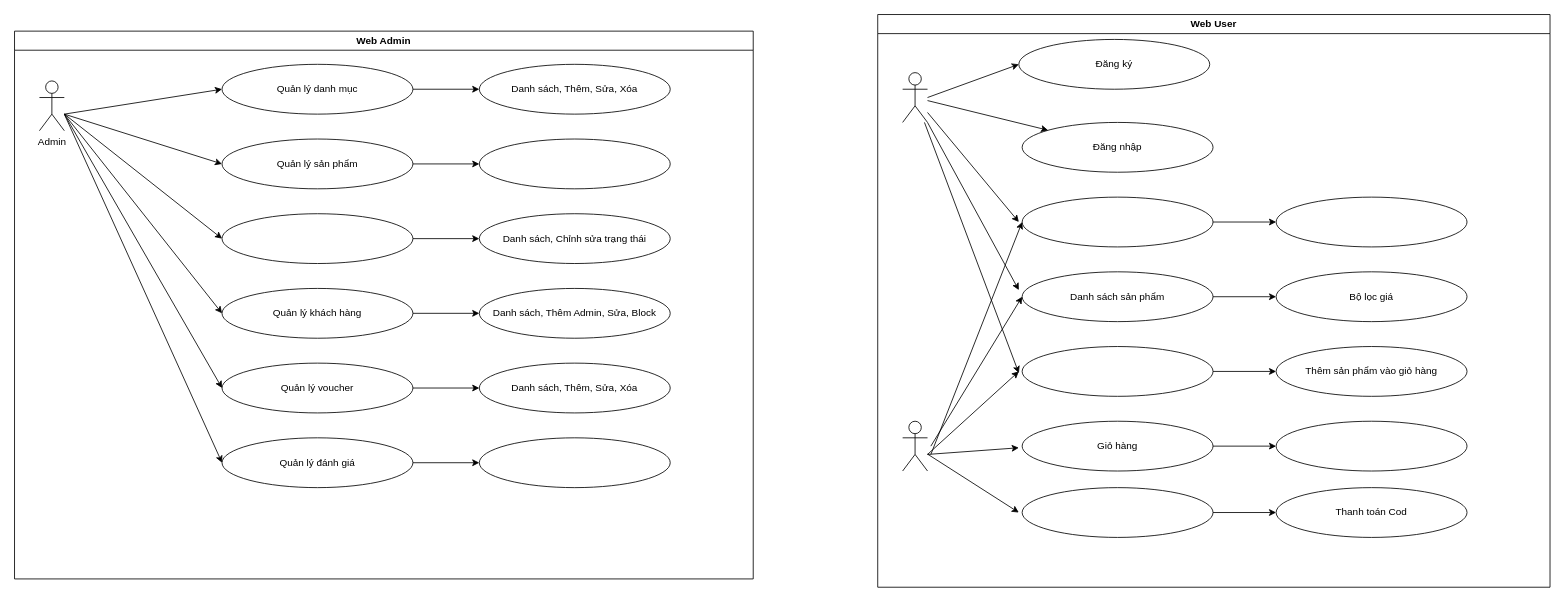
Some shapes in this 1565 by 602 pixel diagram are drawn without their labels. The shapes that lost their labels are listed below. From the top down, each one's centre as x and y in pixels, then its label:
point (915, 97): User (chưa đăng nhập)
point (574, 163): Danh sách, Thêm, Sửa, Xóa, Chi tiết
point (317, 238): Quản lý đơn hàng
point (1117, 221): Trang chủ
point (1371, 221): Top 10 sản phẩm mới
point (1117, 371): Chi tiết sản phẩm
point (574, 462): Danh sách, Ẩn/hiện
point (915, 445): User (Đã đăng nhập)
point (1371, 445): Chỉnh sửa số lượng sản phẩm,thêm xóa sản phẩm trong giỏ hàng
point (1117, 512): Thanh toán
